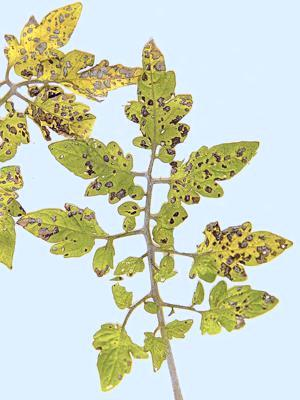Tomato Septoria leaf spot: (1, 0, 156, 111), (10, 183, 126, 278), (125, 23, 199, 167), (44, 116, 144, 212), (185, 218, 300, 284), (163, 139, 269, 210), (195, 278, 300, 343), (15, 74, 100, 138), (85, 309, 150, 390)
